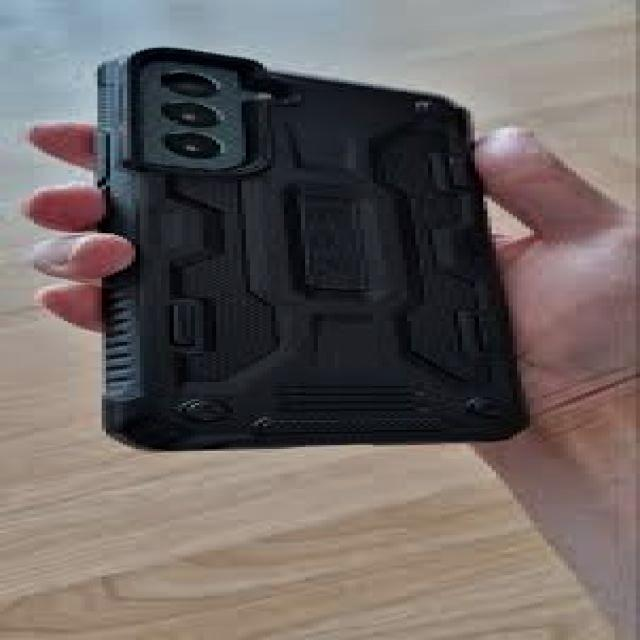lens: (136, 53, 251, 167)
phone: (100, 63, 531, 452)
